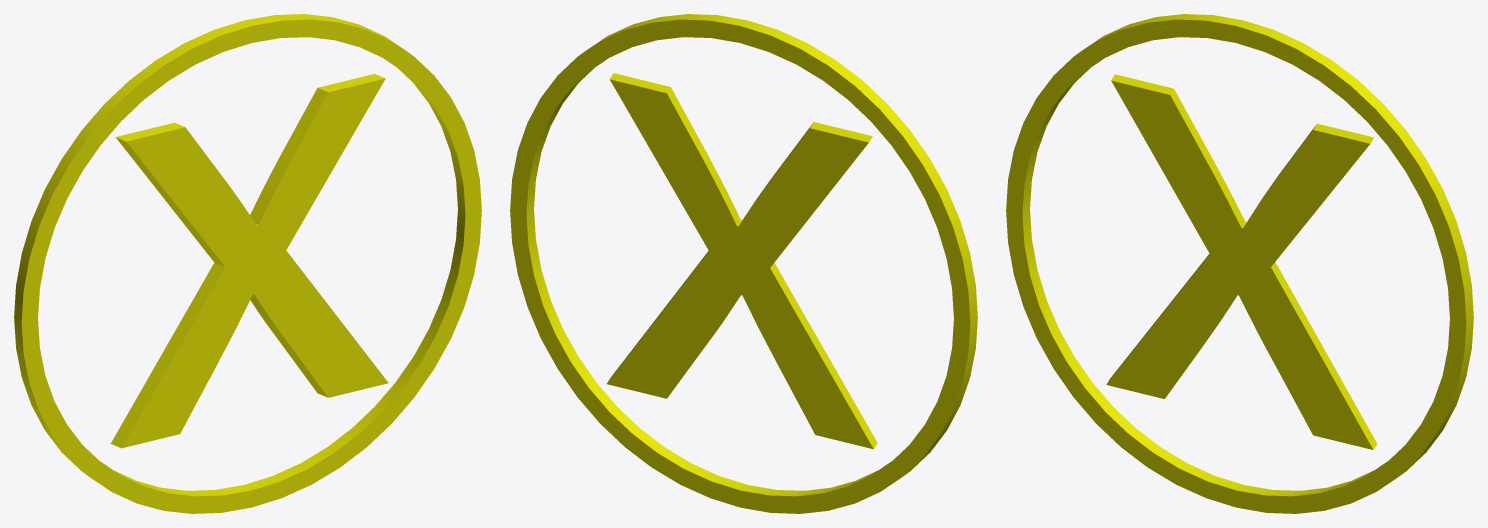
Rendered from Mutliplier_Powerup.fbx.
3 views of the same model, side by side, from view 1: azimuth 30°, elevation 25°; view 2: azimuth 150°, elevation 25°; view 3: azimuth 330°, elevation 25° (orthographic).
Parts seen in each view (by area): view 1: Mutplier_Power_Up; view 2: Mutplier_Power_Up; view 3: Mutplier_Power_Up.
Boxes of the visible parts, x1=… form: Mutplier_Power_Up: x1=14, y1=14, x2=481, y2=513; Mutplier_Power_Up: x1=510, y1=14, x2=977, y2=513; Mutplier_Power_Up: x1=1006, y1=14, x2=1473, y2=513.
Size of the model in its own units: 15.83 by 15.83 by 0.45.
